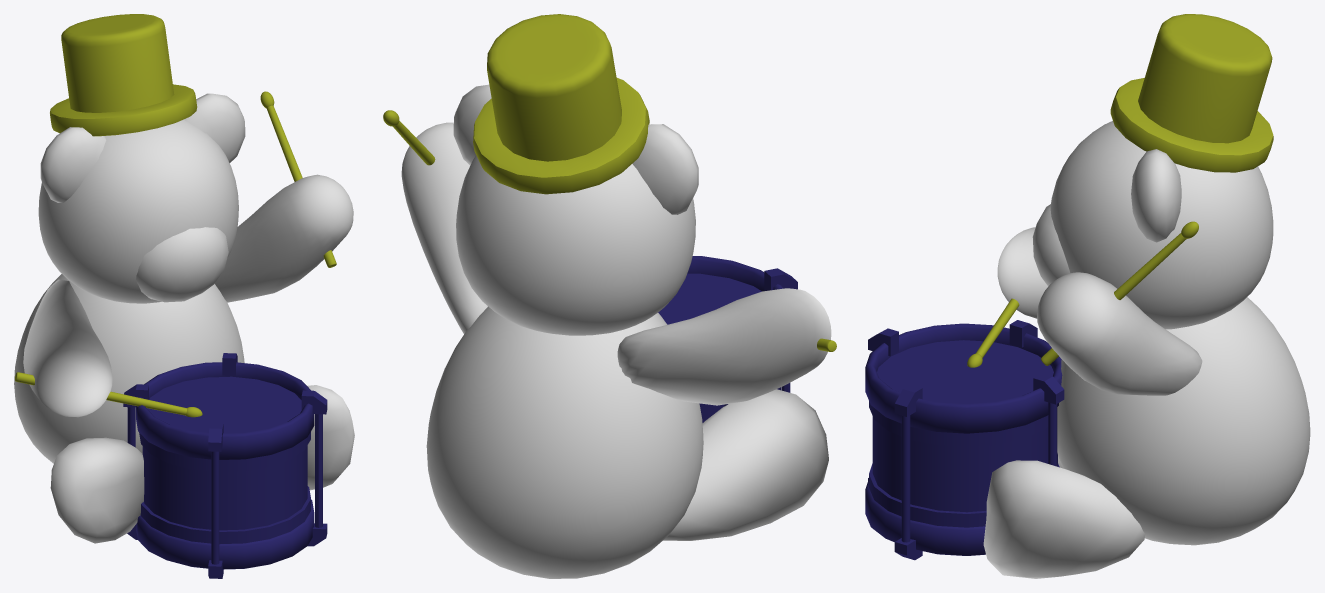
Rendered from OBJ_Peluche_Musical_casse_bonbon.fbx.
The picture shows the model from 3 angles, left to right: view 1: azimuth 30°, elevation 25°; view 2: azimuth 150°, elevation 25°; view 3: azimuth 270°, elevation 25°; orthographic projection. The views are drawn at different scales.
Parts seen in each view (by area): view 1: GeoSphere009; view 2: GeoSphere009; view 3: GeoSphere009.
Boxes of the visible parts, box(x1,y1,x2,y2) form: GeoSphere009: box(14, 14, 354, 578); GeoSphere009: box(383, 14, 836, 578); GeoSphere009: box(865, 14, 1310, 578).
Bounding box in the file's own units: 33.48 × 41.64 × 33.43.
